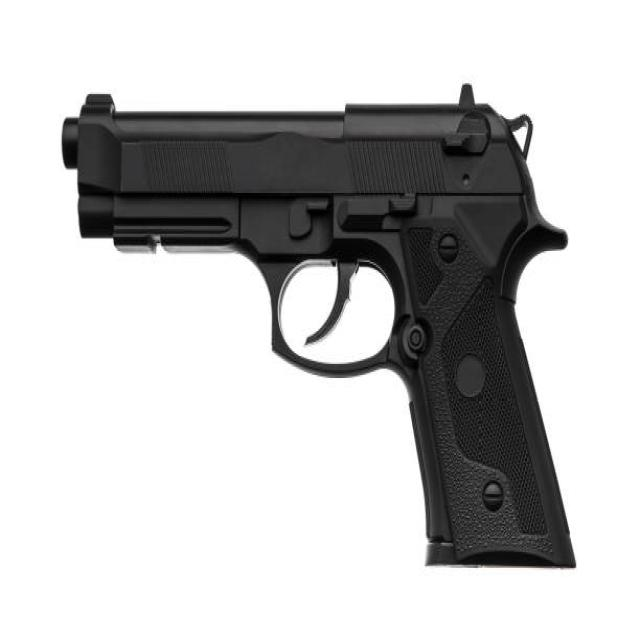pistol: (53, 76, 587, 586)
